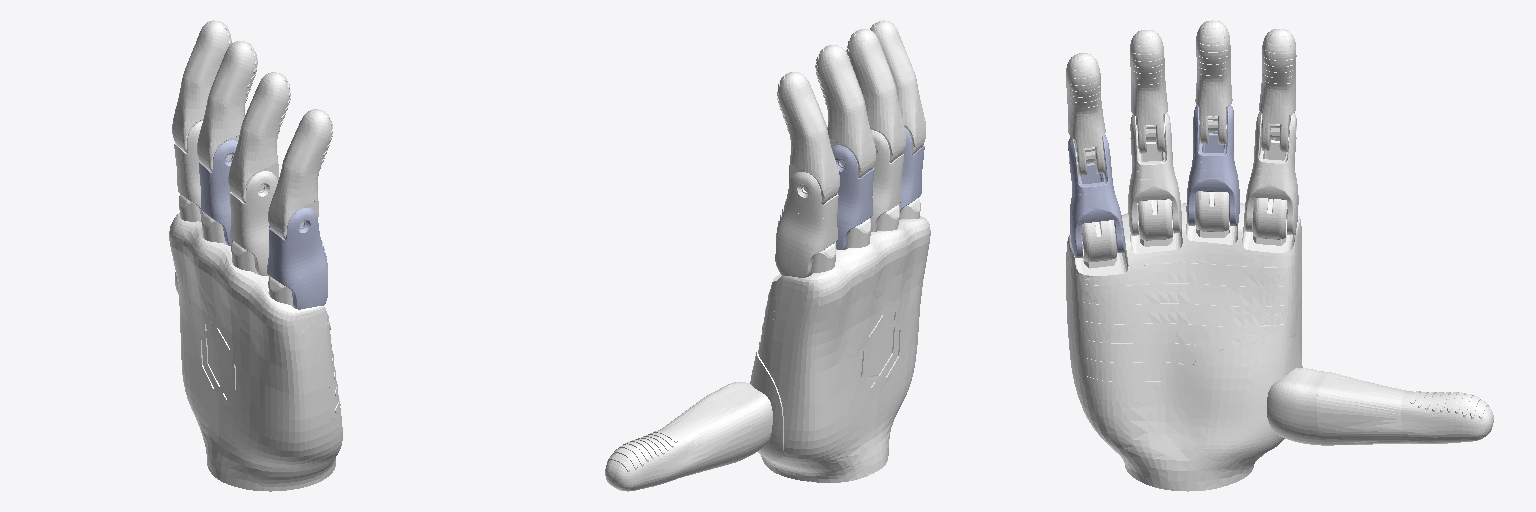
robot.urdf — URDF Final Assembly V13.SLDASM:
<?xml version="1.0" encoding="utf-8"?>
<!-- This URDF was automatically created by SolidWorks to URDF Exporter! Originally created by [author] ([email redacted]) 
     Commit Version: 1.6.0-4-g7f85cfe  Build Version: 1.6.7995.38578
     For more information, please see http://wiki.ros.org/sw_urdf_exporter -->
<robot
  name="URDF Final Assembly V13.SLDASM">
  <link
    name="Palm">
    <inertial>
      <origin
        xyz="-0.00600419847473986 0.000498239708699869 0.0503832932247919"
        rpy="0 0 0" />
      <mass
        value="0.283128265195557" />
      <inertia
        ixx="0.000287564837192637"
        ixy="1.3506419466914E-06"
        ixz="2.60789464417926E-05"
        iyy="0.00018758839367272"
        iyz="-6.92223385784338E-06"
        izz="0.00016182184678675" />
    </inertial>
    <visual>
      <origin
        xyz="0 0 0"
        rpy="0 0 0" />
      <geometry>
        <mesh filename="meshes/visual/Palm.STL" />
      </geometry>
      <material
        name="">
        <color
          rgba="1 1 1 1" />
      </material>
    </visual>
    <collision>
      <origin
        xyz="0 0 0"
        rpy="0 0 0" />
      <geometry>
        <mesh           filename="meshes/collision/palm_collide_vhacd.obj" />
      </geometry>
    </collision>
  </link>
  <link
    name="Index_Proximal">
    <inertial>
      <origin
        xyz="0.012312 0.00144 0.015605"
        rpy="0 0 0" />
      <mass
        value="0.2557" />
      <inertia
        ixx="4.2833E-06"
        ixy="-7.57E-09"
        ixz="-8.0748E-08"
        iyy="4.5982E-06"
        iyz="-2.8088E-07"
        izz="1.6265E-06" />
    </inertial>
    <visual>
      <origin
        xyz="0 0 0"
        rpy="0 0 0" />
      <geometry>
        <mesh
          filename="meshes/visual/Index_Proximal.STL" />
      </geometry>
      <material
        name="">
        <color
          rgba="1 1 1 1" />
      </material>
    </visual>
    <collision>
      <origin
        xyz="0 0 0"
        rpy="0 0 0" />
      <geometry>
        <mesh
          filename="meshes/collision/index_proximal_collide_vhacd.obj" />
      </geometry>
    </collision>
  </link>
  <joint
    name="Index_MCP_Joint"
    type="revolute">
    <origin
      xyz="-0.009296324611102 0.0322863306879901 0.104342484724909"
      rpy="0.0471328584676346 -0.192922109497075 -0.0745251072270674" />
    <parent
      link="Palm" />
    <child
      link="Index_Proximal" />
    <axis
      xyz="0 0.995640986756603 -0.0932685664644748" />
    <limit
      lower="0"
      upper="1.774"
      effort="0"
      velocity="0" />
  </joint>
  <link
    name="Index_Distal">
    <inertial>
      <origin
        xyz="0.00245853306411007 -4.18781655450728E-07 0.0189936537865397"
        rpy="0 0 0" />
      <mass
        value="0.162350311115962" />
      <inertia
        ixx="1.8466183514147E-06"
        ixy="-7.23729006666512E-12"
        ixz="-3.4435261146249E-07"
        iyy="1.98212521922435E-06"
        iyz="-2.18403904879459E-11"
        izz="3.32767630758346E-07" />
    </inertial>
    <visual>
      <origin
        xyz="0 0 0"
        rpy="0 0 0" />
      <geometry>
        <mesh
          filename="meshes/visual/Index_Distal.STL" />
      </geometry>
      <material
        name="">
        <color
          rgba="1 1 1 1" />
      </material>
    </visual>
    <collision>
      <origin
        xyz="0 0 0"
        rpy="0 0 0" />
      <geometry>
        <mesh
          filename="meshes/collision/index_distal_collide_vhacd.obj" />
      </geometry>
    </collision>
  </link>
  <joint
    name="Index_PIP_Joint"
    type="revolute">
    <origin
      xyz="0.000620549170709181 0.00320952945136043 0.0341394661742151"
      rpy="-0.0955181403529831 0.210459066367382 -0.0200128224323877" />
    <parent
      link="Index_Proximal" />
    <child
      link="Index_Distal" />
    <axis
      xyz="0 1 0" />
    <limit
      lower="0"
      upper="1.571"
      effort="0"
      velocity="0" />
  </joint>
  
  
  <link
    name="Middle_Proximal">
    <inertial>
      <origin
        xyz="0.0123125081237437 -2.17566285766746E-05 0.0156706255149206"
        rpy="0 0 0" />
      <mass
        value="0.1255696641629694" />
      <inertia
        ixx="4.28322654679413E-06"
        ixy="6.89190051105612E-12"
        ixz="-8.10707532421487E-08"
        iyy="4.62440324709858E-06"
        iyz="-3.3802085650703E-11"
        izz="1.60017622490279E-06" />
    </inertial>
    <visual>
      <origin
        xyz="0 0 0"
        rpy="0 0 0" />
      <geometry>
        <mesh
          filename="meshes/visual/Middle_Proximal.STL" />
      </geometry>
      <material
        name="">
        <color
          rgba="0.792156862745098 0.819607843137255 0.933333333333333 1" />
      </material>
    </visual>
    <collision>
      <origin
        xyz="0 0 0"
        rpy="0 0 0" />
      <geometry>
        <mesh
          filename="meshes/collision/middle_proximal_collide_vhacd.obj" />
      </geometry>
    </collision>
  </link>
  <joint
    name="Middle_MCP_Joint"
    type="revolute">
    <origin
      xyz="-0.0120427537003113 0.00944933791464269 0.106250881297933"
      rpy="-0.000914728685283388 -0.180273058292669 -0.0465850254973407" />
    <parent
      link="Palm" />
    <child
      link="Middle_Proximal" />
    <axis
      xyz="0 1 0" />
    <limit
      lower="0"
      upper="1774"
      effort="0"
      velocity="0" />
  </joint>
  <link
    name="Middle_Distal">
    <inertial>
      <origin
        xyz="0.00245853151741986 -4.19305877163642E-07 0.0189936542197434"
        rpy="0 0 0" />
      <mass
        value="0.10862350138399462" />
      <inertia
        ixx="1.84661785055326E-06"
        ixy="-7.22127327412518E-12"
        ixz="-3.44352616543183E-07"
        iyy="1.98212468335388E-06"
        iyz="-2.19017741152441E-11"
        izz="3.32767571423503E-07" />
    </inertial>
    <visual>
      <origin
        xyz="0 0 0"
        rpy="0 0 0" />
      <geometry>
        <mesh
          filename="meshes/visual/Middle_Distal.STL" />
      </geometry>
      <material
        name="">
        <color
          rgba="1 1 1 1" />
      </material>
    </visual>
    <collision>
      <origin
        xyz="0 0 0"
        rpy="0 0 0" />
      <geometry>
        <mesh
          filename="meshes/collision/middle_distal_collide_vhacd.obj" />
      </geometry>
    </collision>
  </link>
  <joint
    name="Middle_PIP_Joint"
    type="revolute">
    <origin
      xyz="0.000620549170685131 1.14000000000832E-05 0.0342900000000001"
      rpy="0 0.189617527172128 0" />
    <parent
      link="Middle_Proximal" />
    <child
      link="Middle_Distal" />
    <axis
      xyz="0 1 0" />
    <limit
      lower="0"
      upper="1.571"
      effort="0"
      velocity="0" />
  </joint>
  
  
  <link
    name="Ring_Proximal">
    <inertial>
      <origin
        xyz="0.0123125207464881 -2.17823718600251E-05 0.0156706932395697"
        rpy="0 0 0" />
      <mass
        value=".1255697387508071" />
      <inertia
        ixx="4.28323805639626E-06"
        ixy="1.01176446317583E-11"
        ixz="-8.10600099492174E-08"
        iyy="4.62442001199592E-06"
        iyz="-4.7608893122507E-11"
        izz="1.60017993990507E-06" />
    </inertial>
    <visual>
      <origin
        xyz="0 0 0"
        rpy="0 0 0" />
      <geometry>
        <mesh
          filename="meshes/visual/Ring_Proximal.STL" />
      </geometry>
      <material
        name="">
        <color
          rgba="1 1 1 1" />
      </material>
    </visual>
    <collision>
      <origin
        xyz="0 0 0"
        rpy="0 0 0" />
      <geometry>
        <mesh
          filename="meshes/collision/ring_proximal_collide_vhacd.obj" />
      </geometry>
    </collision>
  </link>
  <joint
    name="Ring_MCP_Joint"
    type="revolute">
    <origin
      xyz="-0.0116847742412016 -0.0133562631822687 0.102751259121448"
      rpy="0.0459314437008575 -0.181780461299587 0.0190423185017122" />
    <parent
      link="Palm" />
    <child
      link="Ring_Proximal" />
    <axis
      xyz="0 1 0" />
    <limit
      lower="0"
      upper="1.774"
      effort="0"
      velocity="0" />
  </joint>
  <link
    name="Ring_Distal">
    <inertial>
      <origin
        xyz="0.0024585307505642 -4.18275792434322E-07 0.0189936617903615"
        rpy="0 0 0" />
      <mass
        value="0.10862350282783975" />
      <inertia
        ixx="1.84661792068038E-06"
        ixy="-7.25121850519365E-12"
        ixz="-3.44352852865657E-07"
        iyy="1.98212484891192E-06"
        iyz="-2.16467591728085E-11"
        izz="3.32767548883008E-07" />
    </inertial>
    <visual>
      <origin
        xyz="0 0 0"
        rpy="0 0 0" />
      <geometry>
        <mesh
          filename="meshes/visual/Ring_Distal.STL" />
      </geometry>
      <material
        name="">
        <color
          rgba="1 1 1 1" />
      </material>
    </visual>
    <collision>
      <origin
        xyz="0 0 0"
        rpy="0 0 0" />
      <geometry>
        <mesh
          filename="meshes/collision/ring_distal_collide_vhacd.obj" />
      </geometry>
    </collision>
  </link>
  <joint
    name="Ring_PIP_Joint"
    type="revolute">
    <origin
      xyz="0.000620549170687899 -1.14000000020695E-05 0.0342900000000016"
      rpy="0 0.197449031308958 0" />
    <parent
      link="Ring_Proximal" />
    <child
      link="Ring_Distal" />
    <axis
      xyz="0 1 0" />
    <limit
      lower="0"
      upper="1.571"
      effort="0"
      velocity="0" />
  </joint>
  <link
    name="Pinky_Proximal">
    <inertial>
      <origin
        xyz="0.0123124897865038 -2.17987662613772E-05 0.0156707315598971"
        rpy="0 0 0" />
      <mass
        value="0.1255698137333334" />
      <inertia
        ixx="4.28327141651743E-06"
        ixy="1.17793008740961E-11"
        ixz="-8.10692182361396E-08"
        iyy="4.62445427227366E-06"
        iyz="-4.14360923076788E-11"
        izz="1.60018235924362E-06" />
    </inertial>
    <visual>
      <origin
        xyz="0 0 0"
        rpy="0 0 0" />
      <geometry>
        <mesh
          filename="meshes/visual/Pinky_Proximal.STL" />
      </geometry>
      <material
        name="">
        <color
          rgba="0.792156862745098 0.819607843137255 0.933333333333333 1" />
      </material>
    </visual>
    <collision>
      <origin
        xyz="0 0 0"
        rpy="0 0 0" />
      <geometry>
        <mesh
          filename="meshes/collision/pinky_proximal_collide_vhacd.obj" />
      </geometry>
    </collision>
  </link>
  <joint
    name="Pinky_MCP_Joint"
    type="revolute">
    <origin
      xyz="-0.00799570272608163 -0.0359407309047329 0.0952807021942017"
      rpy="0.0845713568626855 -0.166953208660193 0.0937969039090452" />
    <parent
      link="Palm" />
    <child
      link="Pinky_Proximal" />
    <axis
      xyz="0 1 0" />
    <limit
      lower="0"
      upper="1.774"
      effort="0"
      velocity="0" />
  </joint>
  <link
    name="Pinky_Distal">
    <inertial>
      <origin
        xyz="0.00245853316480749 -4.16761349153472E-07 0.0189936662511309"
        rpy="0 0 0" />
      <mass
        value="0.1162350966741739" />
      <inertia
        ixx="1.84661928481475E-06"
        ixy="-7.25016867395057E-12"
        ixz="-3.44352811897793E-07"
        iyy="1.98212629187236E-06"
        iyz="-2.14799856901044E-11"
        izz="3.32767712964309E-07" />
    </inertial>
    <visual>
      <origin
        xyz="0 0 0"
        rpy="0 0 0" />
      <geometry>
        <mesh
          filename="meshes/visual/Pinky_Distal.STL" />
      </geometry>
      <material
        name="">
        <color
          rgba="1 1 1 1" />
      </material>
    </visual>
    <collision>
      <origin
        xyz="0 0 0"
        rpy="0 0 0" />
      <geometry>
        <mesh
          filename="meshes/collision/pinky_distal_collide_vhacd.obj" />
      </geometry>
    </collision>
  </link>
  <joint
    name="Pinky_PIP_Joint"
    type="revolute">
    <origin
      xyz="0.00062055 1.14E-05 0.03429"
      rpy="0 0.19757 0" />
    <parent
      link="Pinky_Proximal" />
    <child
      link="Pinky_Distal" />
    <axis
      xyz="0 1 0" />
    <limit
      lower="0"
      upper="1.571"
      effort="0"
      velocity="0" />
  </joint>
  
  <link
    name="Metacarpal">
    <inertial>
      <origin
        xyz="8.59615600912883E-05 0.0074922675524774 0.000693795385077925"
        rpy="0 0 0" />
      <mass
        value="0.10455898019372728" />
      <inertia
        ixx="4.15932525574432E-07"
        ixy="1.74857789724358E-09"
        ixz="5.64846087992515E-10"
        iyy="1.42106909934071E-07"
        iyz="-3.7788133005485E-08"
        izz="3.72950561408405E-07" />
    </inertial>
    <visual>
      <origin
        xyz="0 0 0"
        rpy="0 0 0" />
      <geometry>
        <mesh
          filename="meshes/visual/Metacarpal.STL" />
      </geometry>
      <material
        name="">
        <color
          rgba="0.792156862745098 0.819607843137255 0.933333333333333 1" />
      </material>
    </visual>
    <collision>
      <origin
        xyz="0 0 0"
        rpy="0 0 0" />
      <geometry>
        <mesh
          filename="meshes/visual/Metacarpal.STL" />
      </geometry>
    </collision>
  </link>
  <joint
    name="Metacarpal_Joint"
    type="revolute">
    <origin
      xyz="0.0079928 0.025391 0.032434"
      rpy="0.074184 -0.038292 -0.22638" />
    <parent
      link="Palm" />
    <child
      link="Metacarpal" />
    <axis
      xyz="0 0 -1" />
    <limit
      lower="0"
      upper="1.774"
      effort="0"
      velocity="0" />
  </joint>
  <link
    name="Thumb">
    <inertial>
      <origin
        xyz="0.0150108995559628 -6.94221927581562E-05 -0.00633804475709548"
        rpy="0 0 0" />
      <mass
        value="0.1599545776835582" />
      <inertia
        ixx="4.33243046860296E-06"
        ixy="-8.34351740009724E-09"
        ixz="9.093059581493E-07"
        iyy="1.62169307375563E-05"
        iyz="4.59078110469088E-09"
        izz="1.61222265640691E-05" />
    </inertial>
    <visual>
      <origin
        xyz="0 0 0"
        rpy="0 0 0" />
      <geometry>
        <mesh
          filename="meshes/visual/Thumb.STL" />
      </geometry>
      <material
        name="">
        <color
          rgba="1 1 1 1" />
      </material>
    </visual>
    <collision>
      <origin
        xyz="0 0 0"
        rpy="0 0 0" />
      <geometry>
        <mesh
          filename="meshes/collision/thumb_collide_vhacd.obj" />
      </geometry>
    </collision>
  </link>
  <joint
    name="Thumb_Joint"
    type="revolute">
    <origin
      xyz="0 0.01905 0.0022926"
      rpy="0 0 1.5708" />
    <parent
      link="Metacarpal" />
    <child
      link="Thumb" />
    <axis
      xyz="0 -1 0" />
    <limit
      lower="0"
      upper="1.774"
      effort="0"
      velocity="0" />
  </joint>
  
</robot>

--- Render facts (derived) ---
3 views of the same robot in one strip: view 1: azimuth 30°, elevation 25°; view 2: azimuth 150°, elevation 25°; view 3: azimuth 270°, elevation 25° (orthographic).
Robot: URDF Final Assembly V13.SLDASM — 11 links, 10 joints (10 revolute); root link Palm; default pose: every joint at zero.
Links seen in each view (by area): view 1: Palm, Pinky_Distal, Ring_Distal, Pinky_Proximal, Middle_Distal, Index_Distal, Ring_Proximal, Middle_Proximal, Index_Proximal; view 2: Palm, Thumb, Index_Proximal, Index_Distal, Middle_Distal, Ring_Distal, Pinky_Distal, Middle_Proximal, Ring_Proximal, Pinky_Proximal; view 3: Palm, Thumb, Middle_Distal, Index_Distal, Ring_Distal, Pinky_Distal, Middle_Proximal, Index_Proximal, Pinky_Proximal, Ring_Proximal.
Link boxes in pixels (<box>): Palm: <box>169,194,342,491</box>; Pinky_Distal: <box>268,109,332,239</box>; Ring_Distal: <box>228,72,290,202</box>; Pinky_Proximal: <box>267,208,327,309</box>; Middle_Distal: <box>197,41,257,171</box>; Index_Distal: <box>172,20,231,152</box>; Ring_Proximal: <box>230,171,277,275</box>; Middle_Proximal: <box>199,140,237,245</box>; Index_Proximal: <box>174,121,202,218</box>; Palm: <box>750,198,930,482</box>; Thumb: <box>605,382,772,491</box>; Index_Proximal: <box>775,172,838,277</box>; Index_Distal: <box>777,72,839,204</box>; Middle_Distal: <box>815,45,875,177</box>; Ring_Distal: <box>846,29,905,162</box>; Pinky_Distal: <box>870,20,925,154</box>; Middle_Proximal: <box>831,145,873,249</box>; Ring_Proximal: <box>870,130,903,231</box>; Pinky_Proximal: <box>899,128,924,212</box>; Palm: <box>1066,191,1302,491</box>; Thumb: <box>1267,368,1493,445</box>; Middle_Distal: <box>1195,20,1232,144</box>; Index_Distal: <box>1259,29,1296,152</box>; Ring_Distal: <box>1130,30,1167,153</box>; Pinky_Distal: <box>1066,53,1105,175</box>; Middle_Proximal: <box>1186,105,1239,225</box>; Index_Proximal: <box>1244,112,1298,234</box>; Pinky_Proximal: <box>1068,135,1124,257</box>; Ring_Proximal: <box>1128,113,1181,235</box>.
Size in the robot's own frame: 0.0655 by 0.168 by 0.1873 metres.
Meshes: 11 distinct files referenced, 11 mesh visuals loaded (11 binary STL).